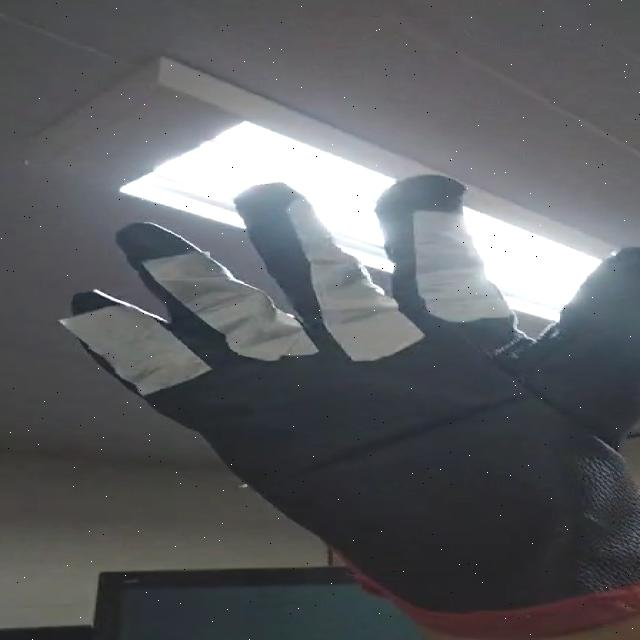Gloves: (55, 165, 640, 622)
